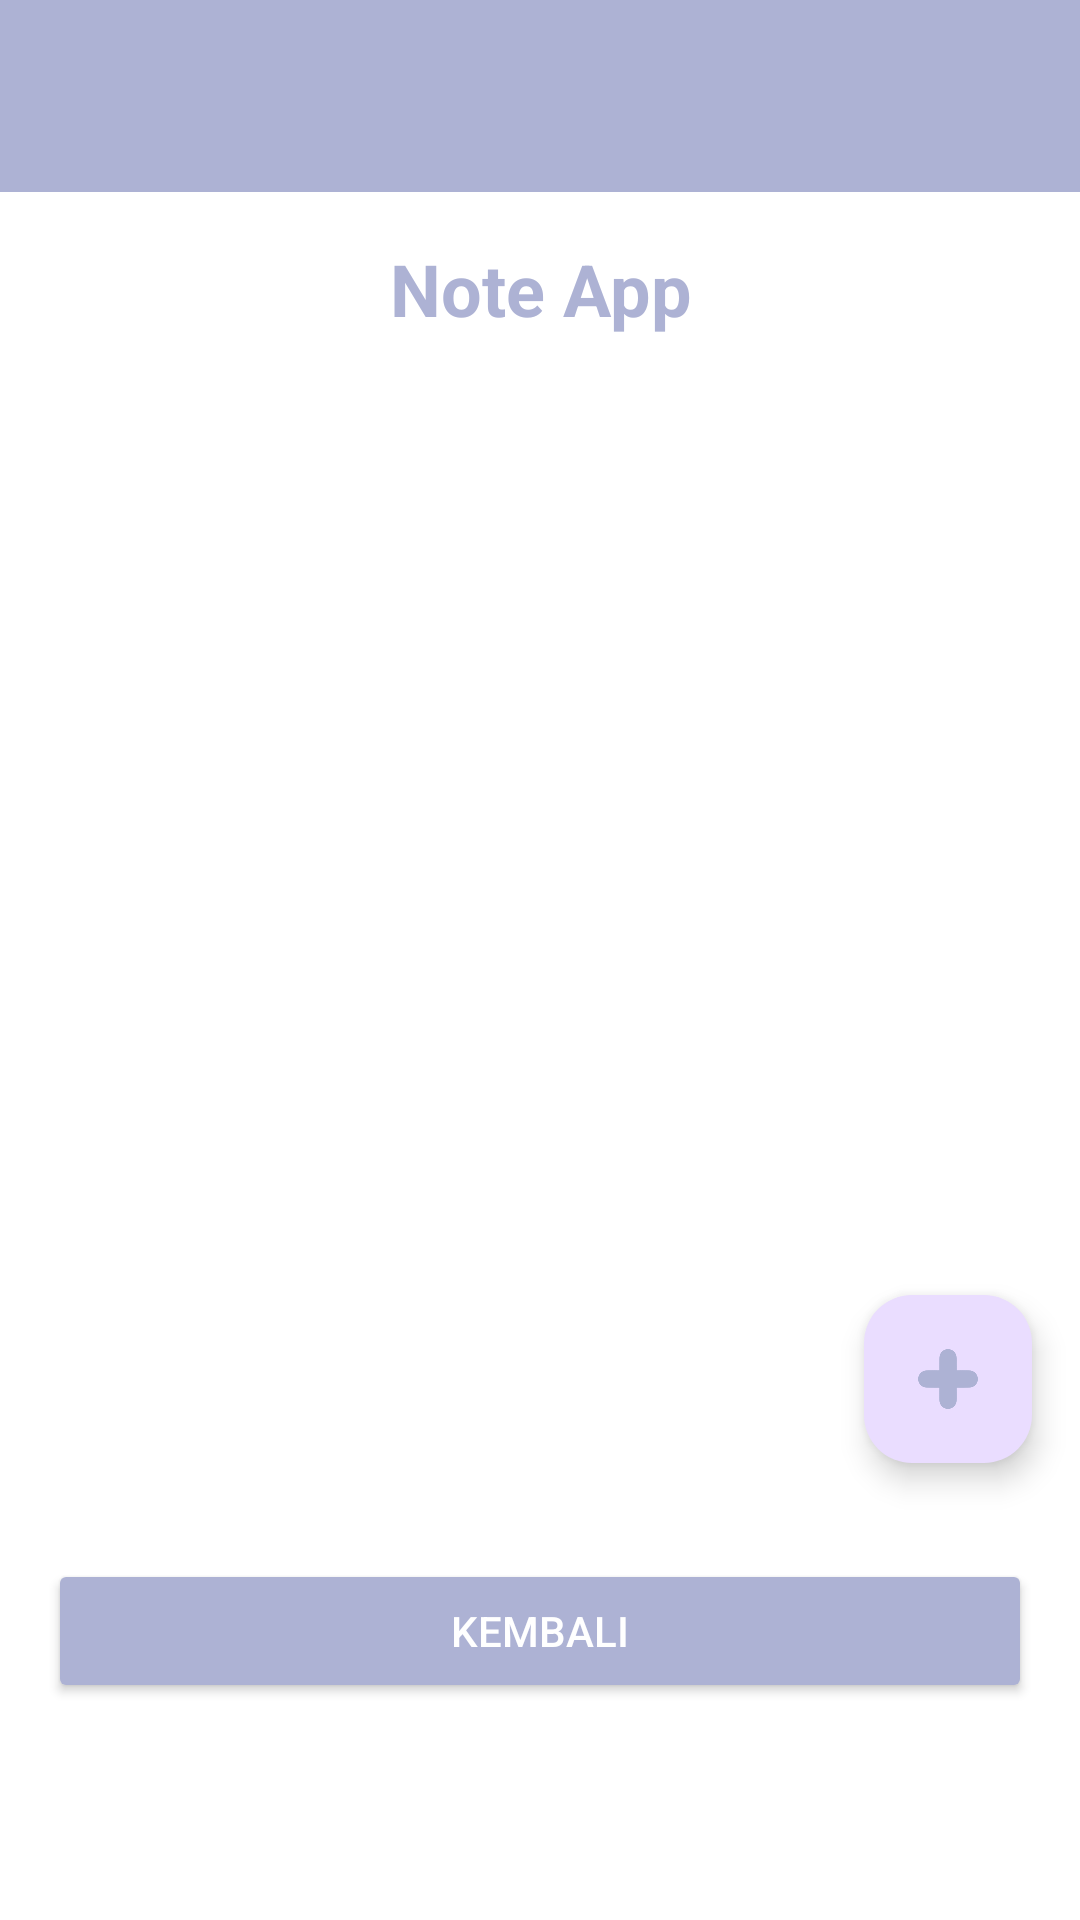

Locate icon controls on the screen. Image size 1080*1920, boxes as (x1, y1, x2, y2).
plus: (864, 1295, 1032, 1463)
